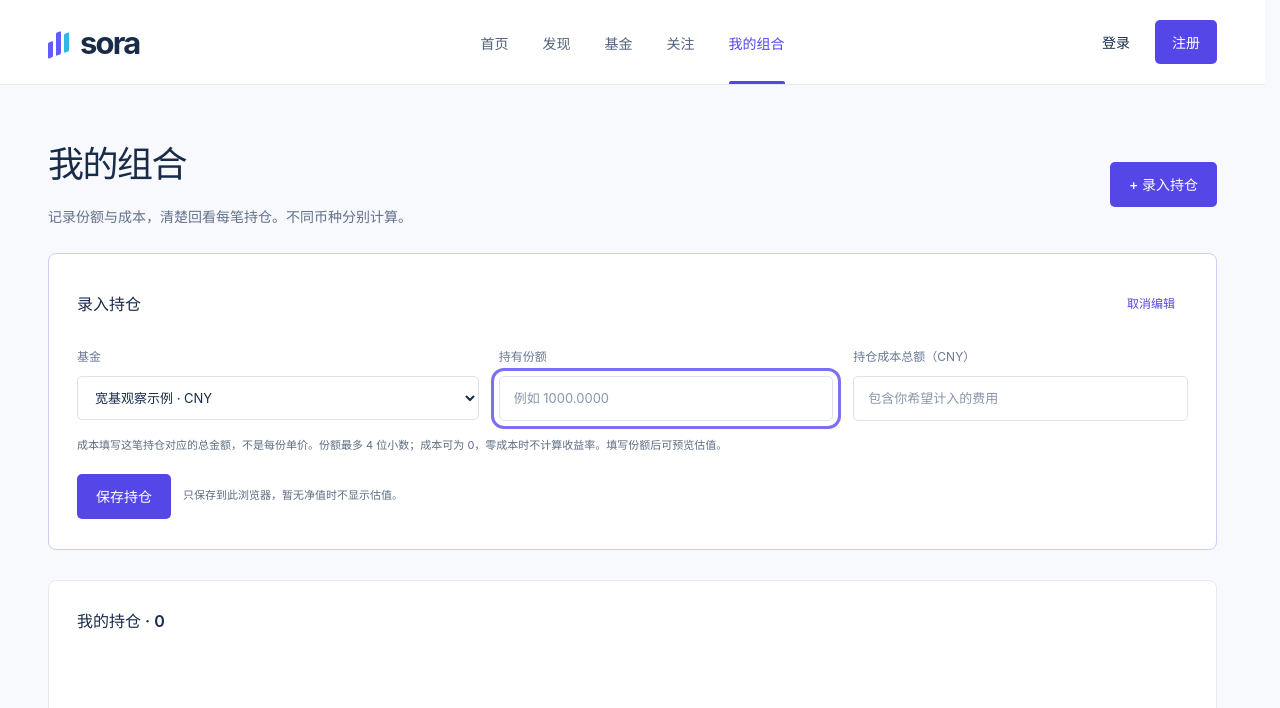
Test: M2 keyboard and accessible flows › focuses invalid fields, associates errors and returns focus after saving
This screenshot has width=1280, height=708.
Step 1. Click the button "保存持仓" → (124, 496), box [77, 474, 171, 519]
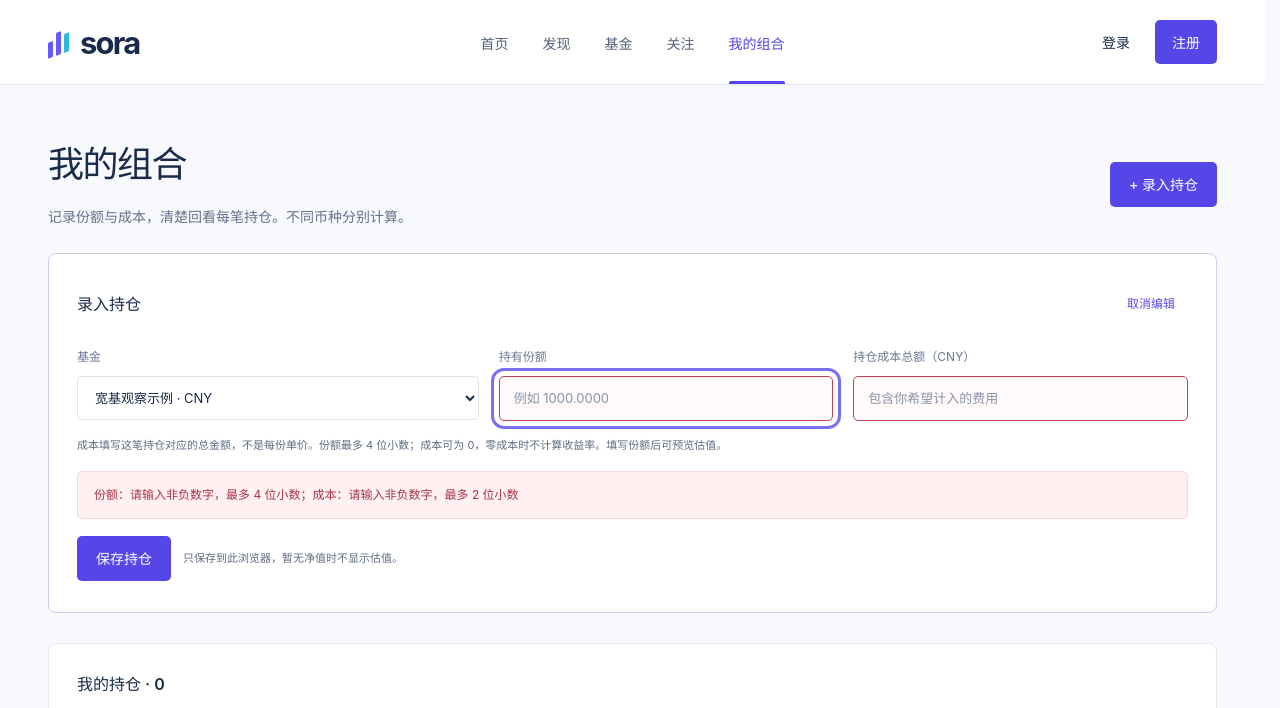
Step 2. Type "10.25" into the field labelled "持有份额" → (666, 399), box [499, 376, 833, 422]
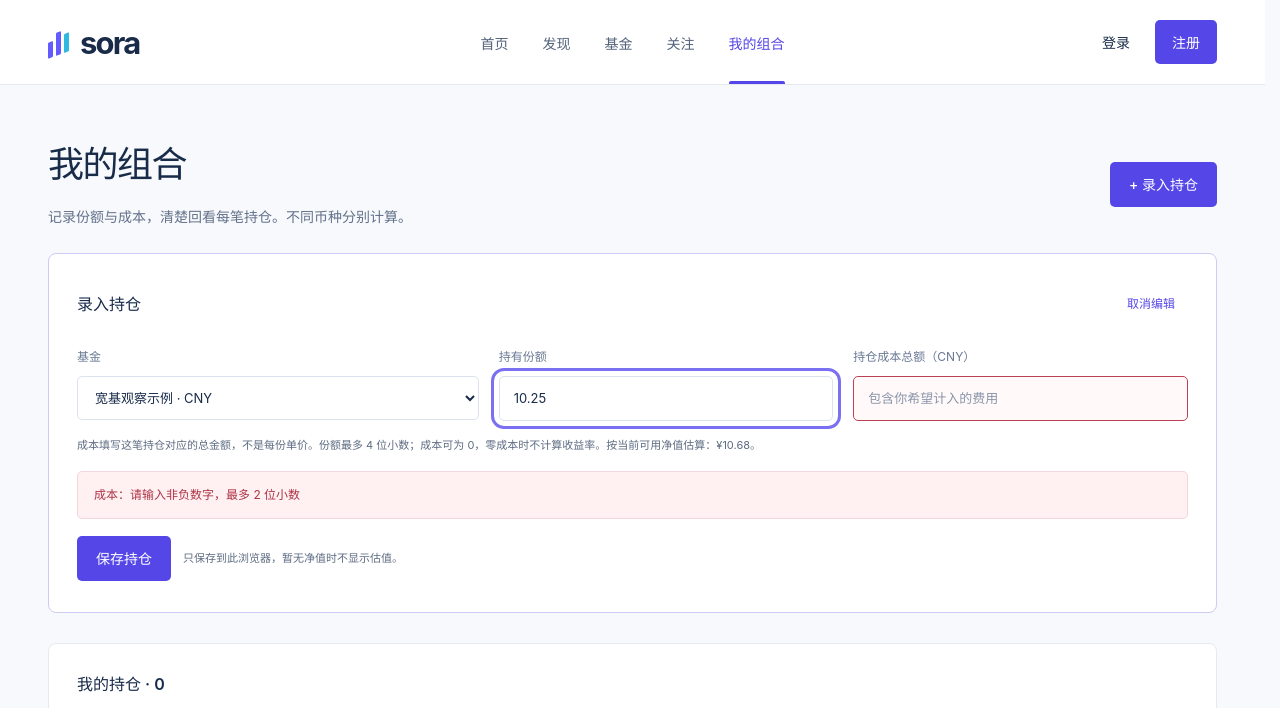
Expected: the field labelled "持有份额" is not marked as invalid, [499, 376, 833, 422]
Step 3. Click the button "保存持仓" → (124, 559), box [77, 536, 171, 581]
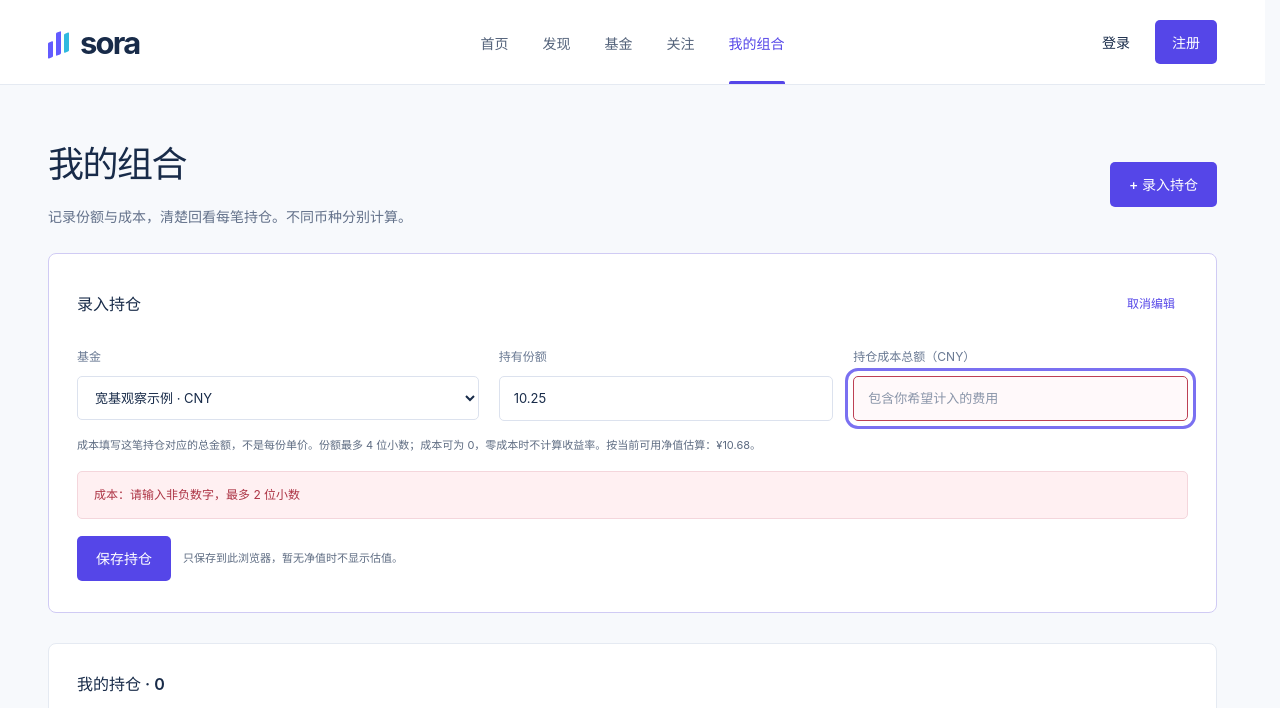
Step 4. Type "10.29" into the field labelled "持仓成本总额（CNY）" → (1021, 399), box [853, 376, 1188, 422]
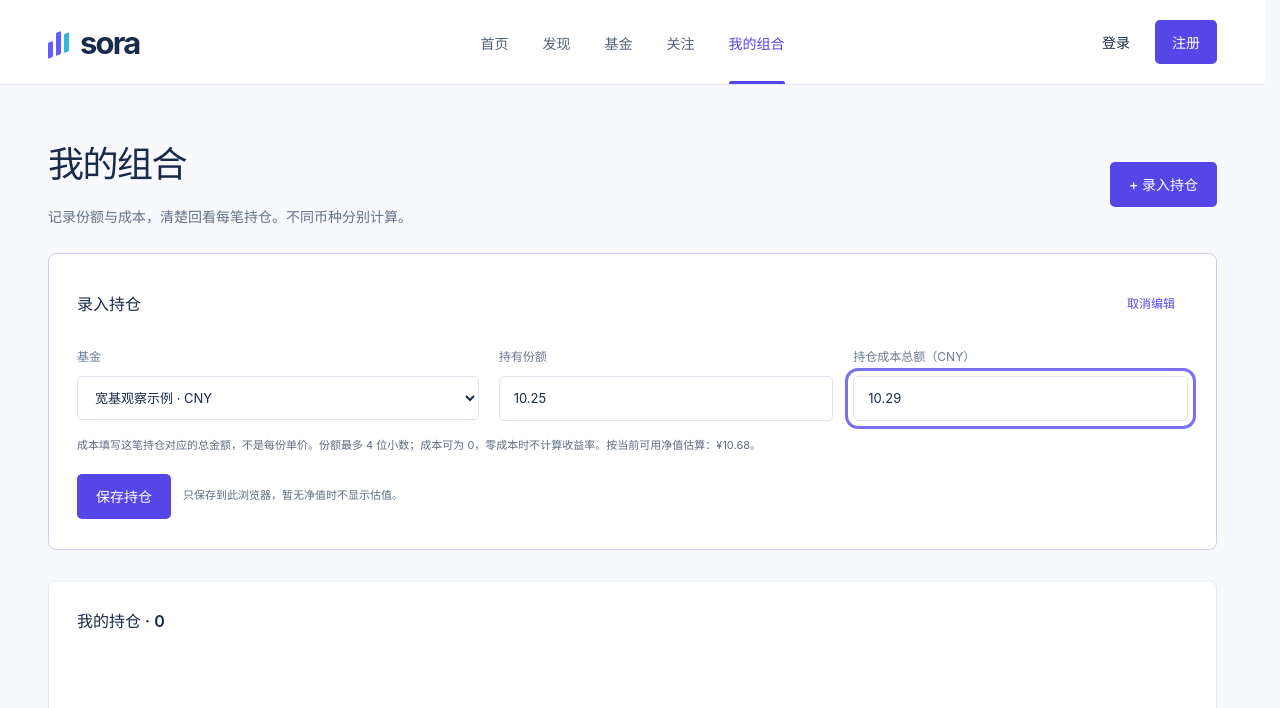
Step 5. Press Enter
(page scrolled)
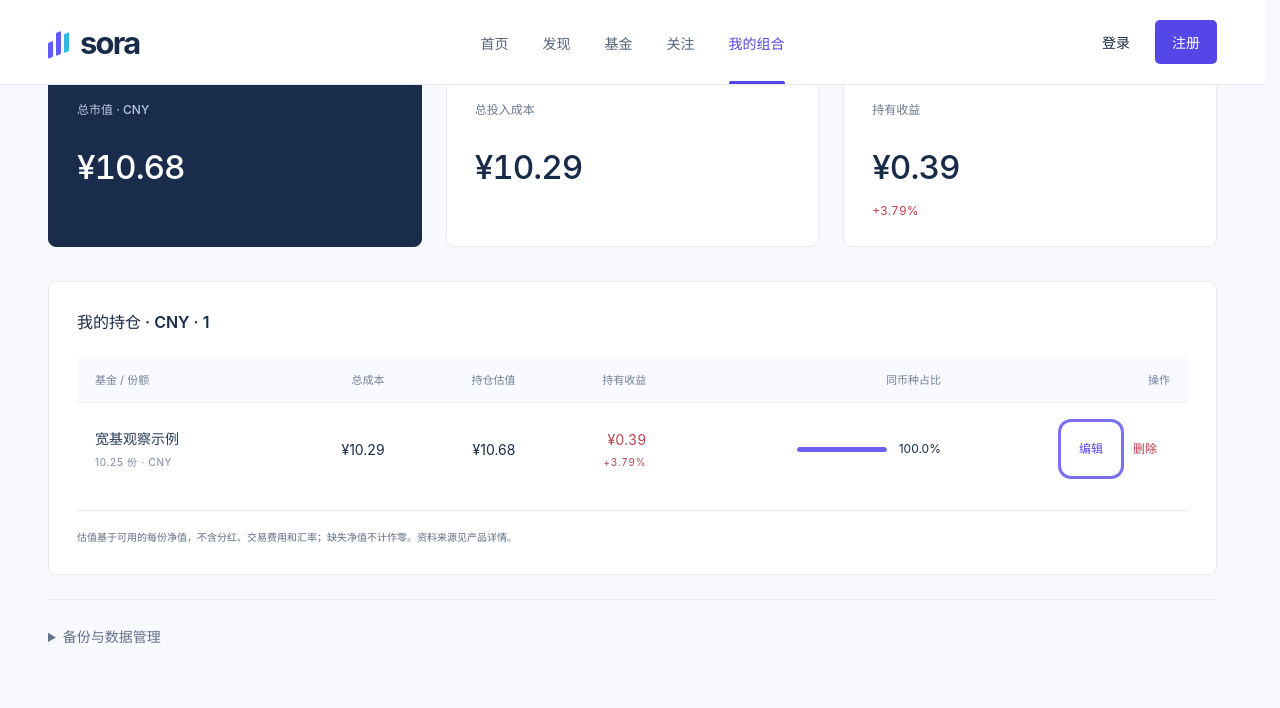
Expected: the element "录入持仓" is gone
